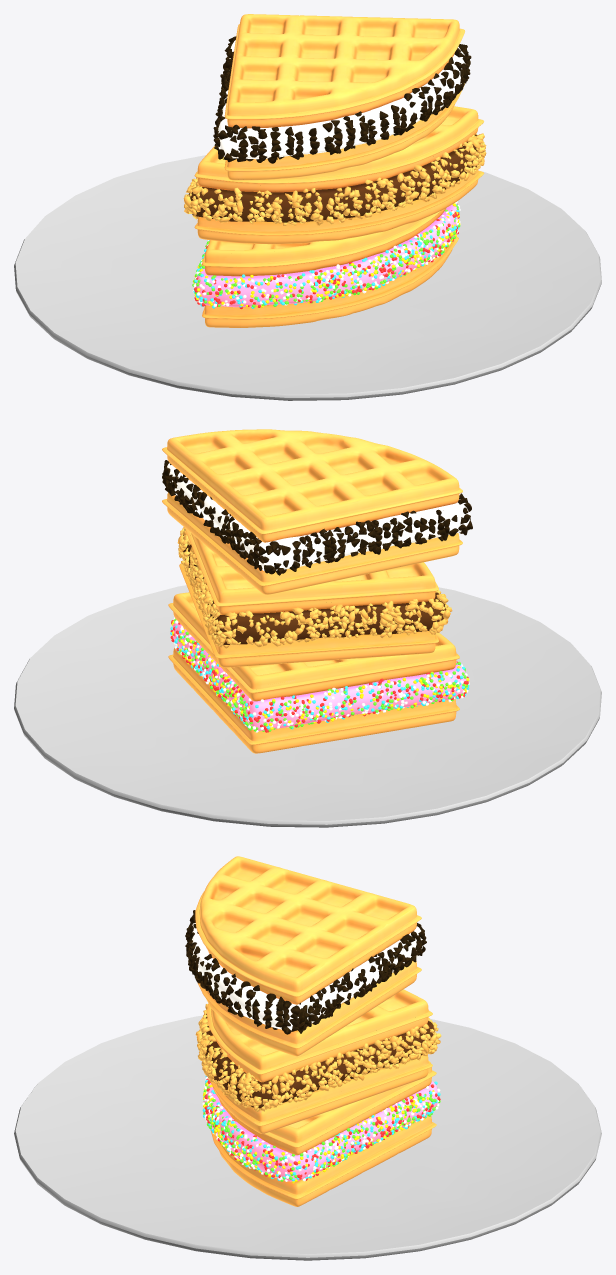
The model's file is ice_cream_sandwich-compressed.glb.
3 views of the same model, one above another, from view 1: azimuth 30°, elevation 25°; view 2: azimuth 150°, elevation 25°; view 3: azimuth 270°, elevation 25° (orthographic).
Visible parts, largest first — view 1: plate, coklat, bean, springkles; view 2: plate, coklat, springkles, bean; view 3: plate, coklat, bean, springkles.
Boxes of the visible parts, x1,y1,x2,y2 form: plate: (14, 155, 601, 400); coklat: (213, 14, 471, 180); bean: (183, 106, 486, 244); springkles: (192, 201, 460, 327); plate: (14, 585, 601, 827); coklat: (162, 429, 472, 594); springkles: (168, 592, 469, 753); bean: (177, 527, 452, 667); plate: (14, 1015, 601, 1260); coklat: (185, 856, 426, 1056); bean: (195, 989, 441, 1133); springkles: (202, 1060, 440, 1206).
Size of the model in its own units: 2.68 by 1.19 by 2.68.
Materials: 4 (3 with a texture image).
